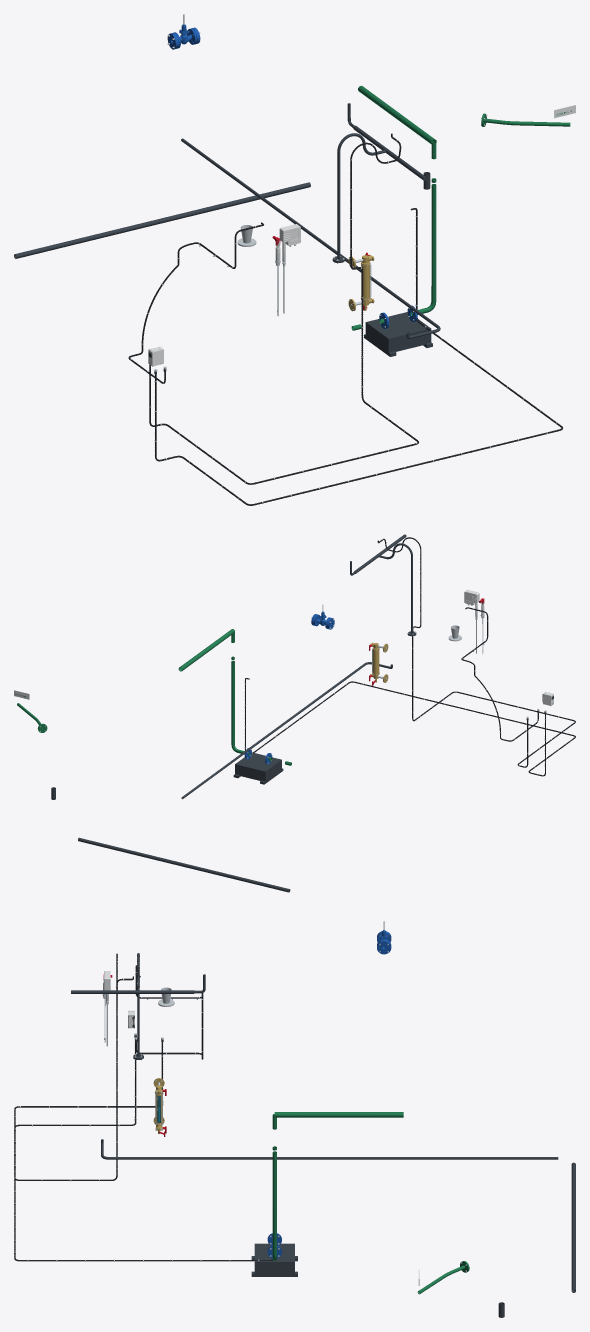
The picture shows the model from 3 angles, top to bottom: view 1: azimuth 30°, elevation 25°; view 2: azimuth 150°, elevation 25°; view 3: azimuth 270°, elevation 25°; orthographic projection. The views are drawn at different scales.
Visible parts, largest first — view 1: pump_branch_1 / dark, wiring_pump_1 / black, bottom_discharge / dark, wiring_pressure_transmitter / black, pressure_header / dark, tds_common / dark, pump_branch_1 / green, sight_glasses_2 / sight_glasses_2_0.npz, wiring_high_level / black, pump_delivery / green; view 2: pump_branch_1 / dark, wiring_pressure_transmitter / black, bottom_discharge / dark, wiring_pump_1 / black, tds_common / dark, pressure_header / dark, pump_branch_1 / green; view 3: tds_common / dark, pump_branch_1 / dark, wiring_pressure_transmitter / black, wiring_pump_1 / black, pressure_header / dark, pump_delivery / green, bottom_discharge / dark, pump_branch_1 / green, wiring_high_level / black, sight_glasses_2 / sight_glasses_2_0.npz.
Part boxes in pixels (x1,y1,x2,y2): pump_branch_1 / dark: (364,312,432,356); wiring_pump_1 / black: (155,208,562,505); bottom_discharge / dark: (14,182,310,258); wiring_pressure_transmitter / black: (149,133,418,484); pressure_header / dark: (332,103,426,262); tds_common / dark: (181,138,440,338); pump_branch_1 / green: (351,141,436,330); sight_glasses_2 / sight_glasses_2_0.npz: (348,252,374,311); wiring_high_level / black: (128,222,263,383); pump_delivery / green: (358,85,436,144); pump_branch_1 / dark: (233,752,283,784); wiring_pressure_transmitter / black: (377,537,575,767); bottom_discharge / dark: (78,837,290,892); wiring_pump_1 / black: (245,678,575,776); tds_common / dark: (181,662,392,799); pressure_header / dark: (350,534,416,636); pump_branch_1 / green: (231,632,291,765); tds_common / dark: (101,1139,558,1159); pump_branch_1 / dark: (251,1243,297,1276); wiring_pressure_transmitter / black: (14,953,163,1180); wiring_pump_1 / black: (14,1042,272,1261); pressure_header / dark: (71,953,205,1059); pump_delivery / green: (274,1112,403,1117); bottom_discharge / dark: (571,1162,575,1292); pump_branch_1 / green: (272,1114,276,1260); wiring_high_level / black: (135,965,203,1059); sight_glasses_2 / sight_glasses_2_0.npz: (153,1078,166,1136).
Bounding box in the file's own units: 5.81 × 3.01 × 5.45.
